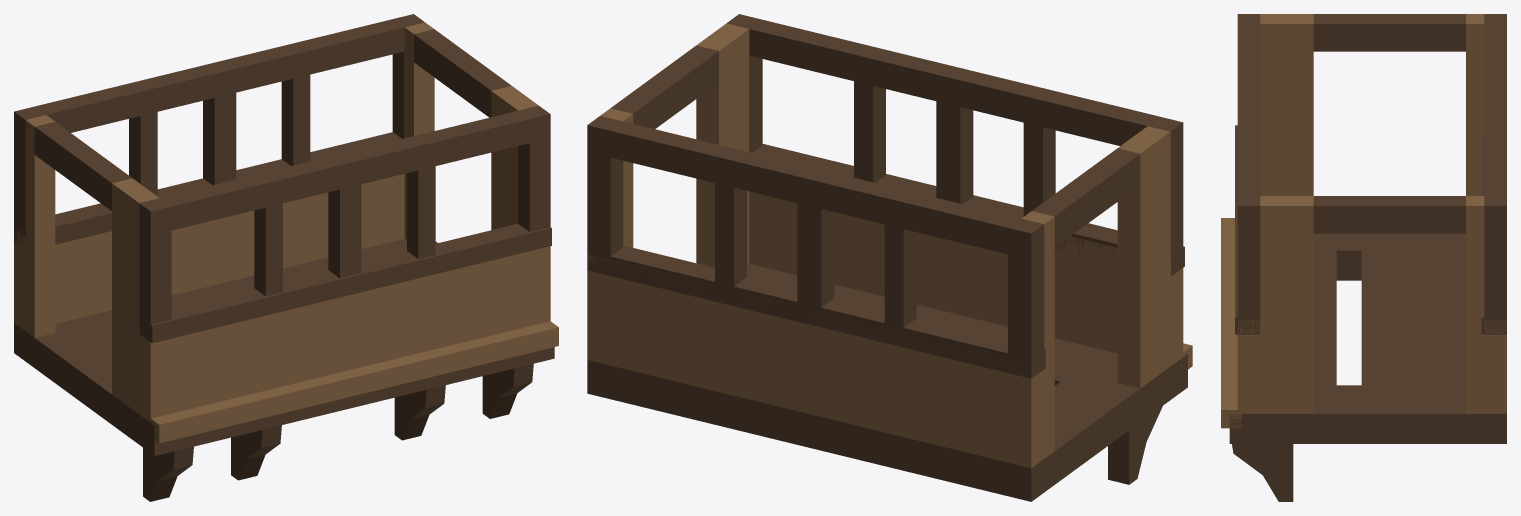
The model's file is gate_gallery.glb.
3 views of the same model, side by side, from view 1: azimuth 30°, elevation 25°; view 2: azimuth 150°, elevation 25°; view 3: azimuth 270°, elevation 25° (orthographic). The views are drawn at different scales.
Visible parts, largest first — view 1: Gate gallery; view 2: Gate gallery; view 3: Gate gallery.
Part boxes in pixels (left/top/right/bottom): Gate gallery: left=14, top=14, right=558, bottom=501; Gate gallery: left=587, top=14, right=1192, bottom=501; Gate gallery: left=1221, top=14, right=1506, bottom=501.
Size of the model in its own units: 2 by 1.48 by 1.26.
